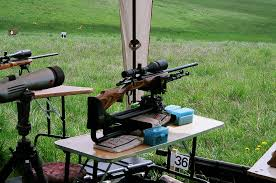gun: (86, 59, 199, 120), (1, 48, 59, 71)
